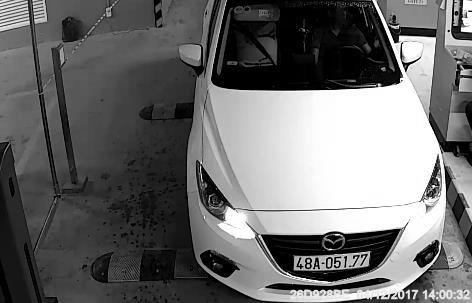License-plate: (287, 244, 379, 282)
